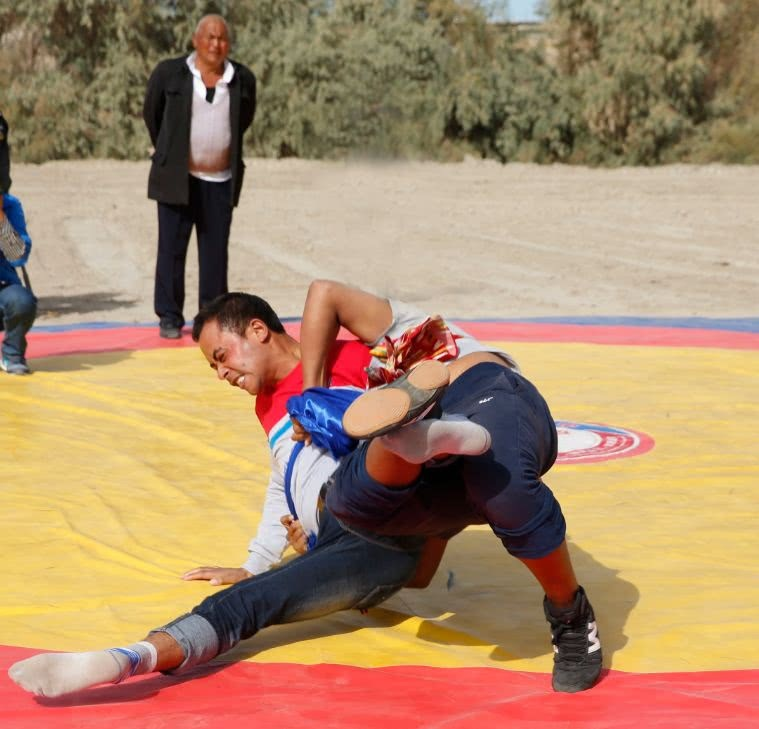falling: (177, 297, 424, 587)
